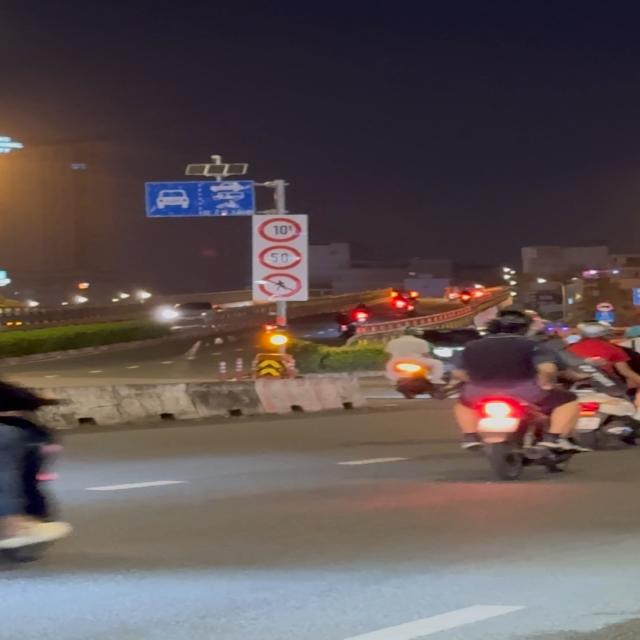Bien bao cam nguoi di bo: (257, 271, 303, 298)
Bien bao toc do toi da cho phep: (258, 245, 304, 271)
